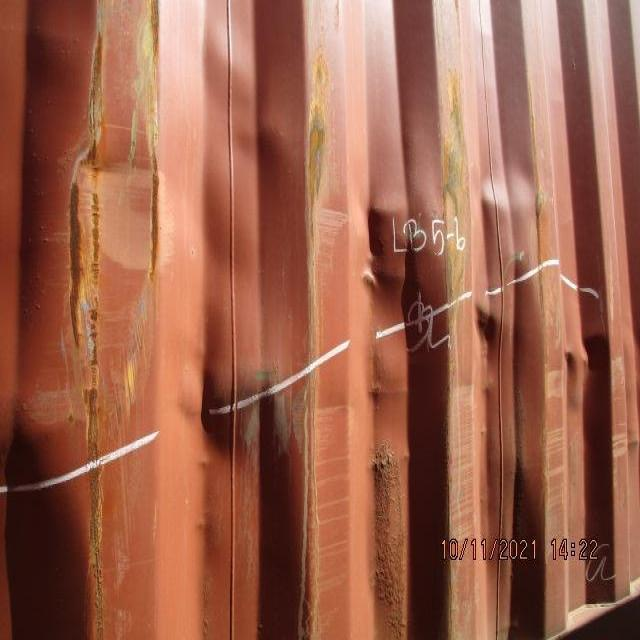Dent: (18, 138, 630, 450)
